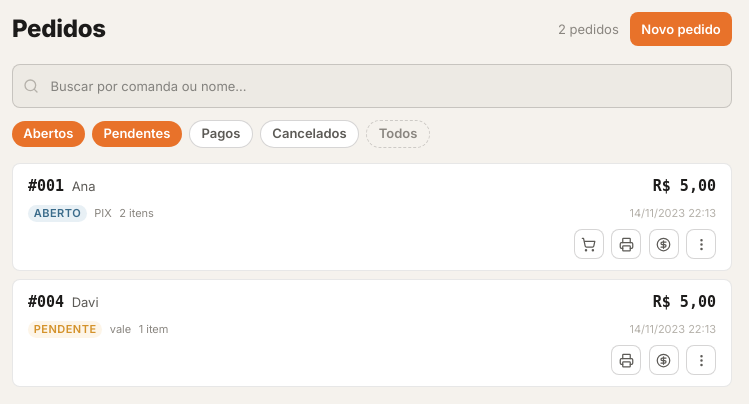
OrdersPage › filters by ticket and by customer name
The image size is (749, 404).
Check: the text "#001" is shown, box [28,175,64,197]
Type "001" into the field named "Buscar pedidos".
click(372, 86); type("001")  # box [12,64,732,108]
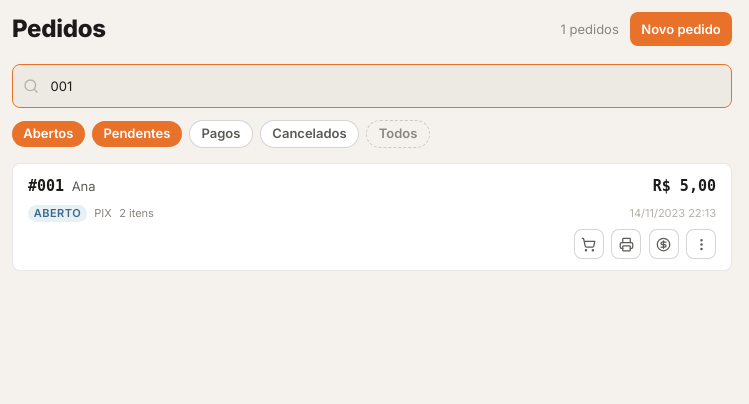
Check: the text "#001" is shown, box [28,175,64,197]
Check: the text "#004" is gone
Replace the text in the field named "Buscar pedidos" with "davi" at (372, 86), box [12,64,732,108]
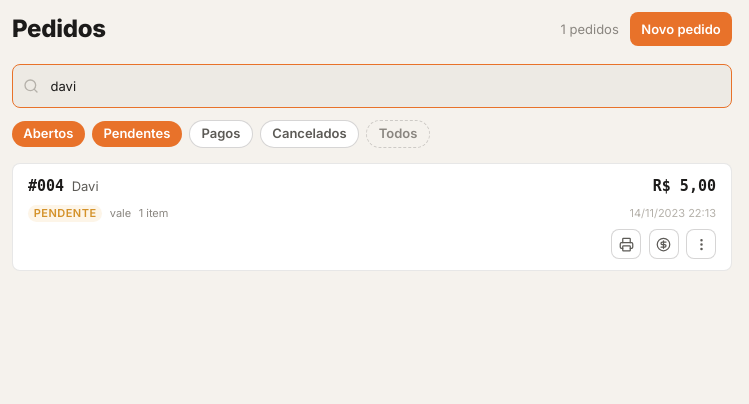
Check: the text "#004" is shown, box [28,175,64,197]
Check: the text "#001" is gone
